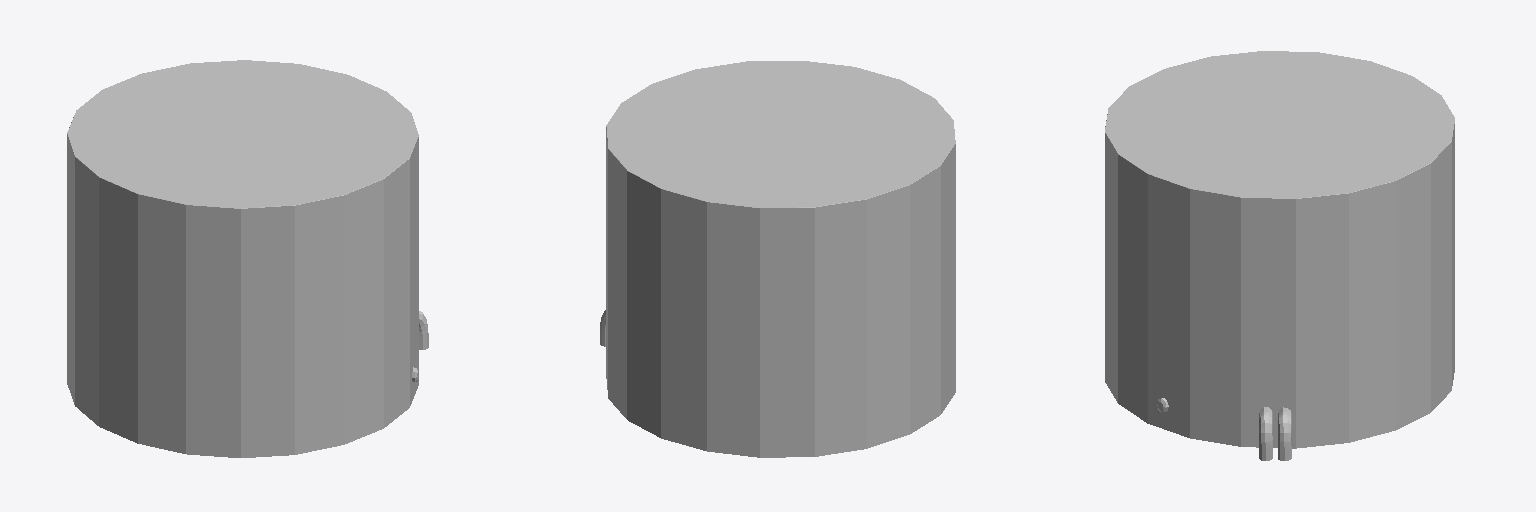
The model's file is Oil_Silo_Small.obj.
3 renders of one model, left to right at view 1: azimuth 30°, elevation 25°; view 2: azimuth 150°, elevation 25°; view 3: azimuth 270°, elevation 25°, orthographic.
Visible parts, largest first — view 1: pasted__Oil_Silo_no_latter group29; view 2: pasted__Oil_Silo_no_latter group29; view 3: pasted__Oil_Silo_no_latter group29.
Part boxes in pixels (bbox=[...]): pasted__Oil_Silo_no_latter group29: bbox=[67, 60, 428, 457]; pasted__Oil_Silo_no_latter group29: bbox=[600, 61, 955, 457]; pasted__Oil_Silo_no_latter group29: bbox=[1105, 51, 1454, 460].
Size of the model in its own units: 17.92 by 12.97 by 16.5.